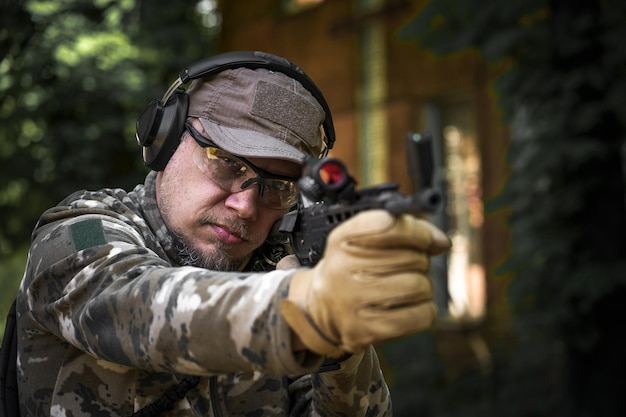gun: (270, 157, 446, 267)
